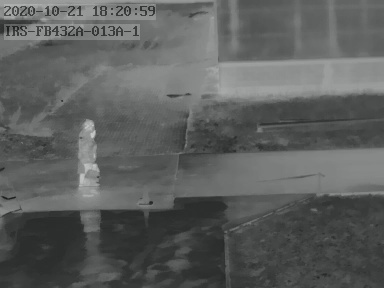person: (75, 118, 102, 190)
